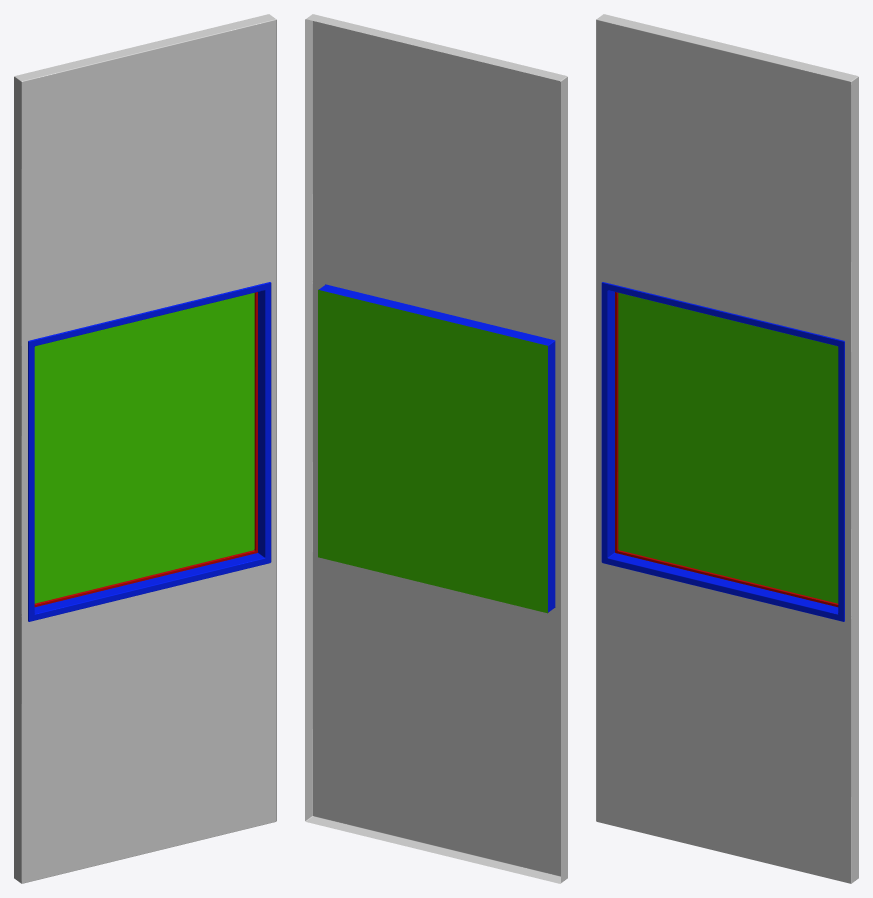
The model's file is Wall03cWindow.fbx.
3 renders of one model, left to right at view 1: azimuth 30°, elevation 25°; view 2: azimuth 150°, elevation 25°; view 3: azimuth 330°, elevation 25°, orthographic.
Parts seen in each view (by area): view 1: Wall03cWindow; view 2: Wall03cWindow; view 3: Wall03cWindow.
Boxes of the visible parts, box(x1,y1,x2,y2) form: Wall03cWindow: box(14, 14, 276, 883); Wall03cWindow: box(305, 14, 567, 883); Wall03cWindow: box(596, 14, 858, 883).
Bounding box in the file's own units: 100 × 300 × 5.5.
